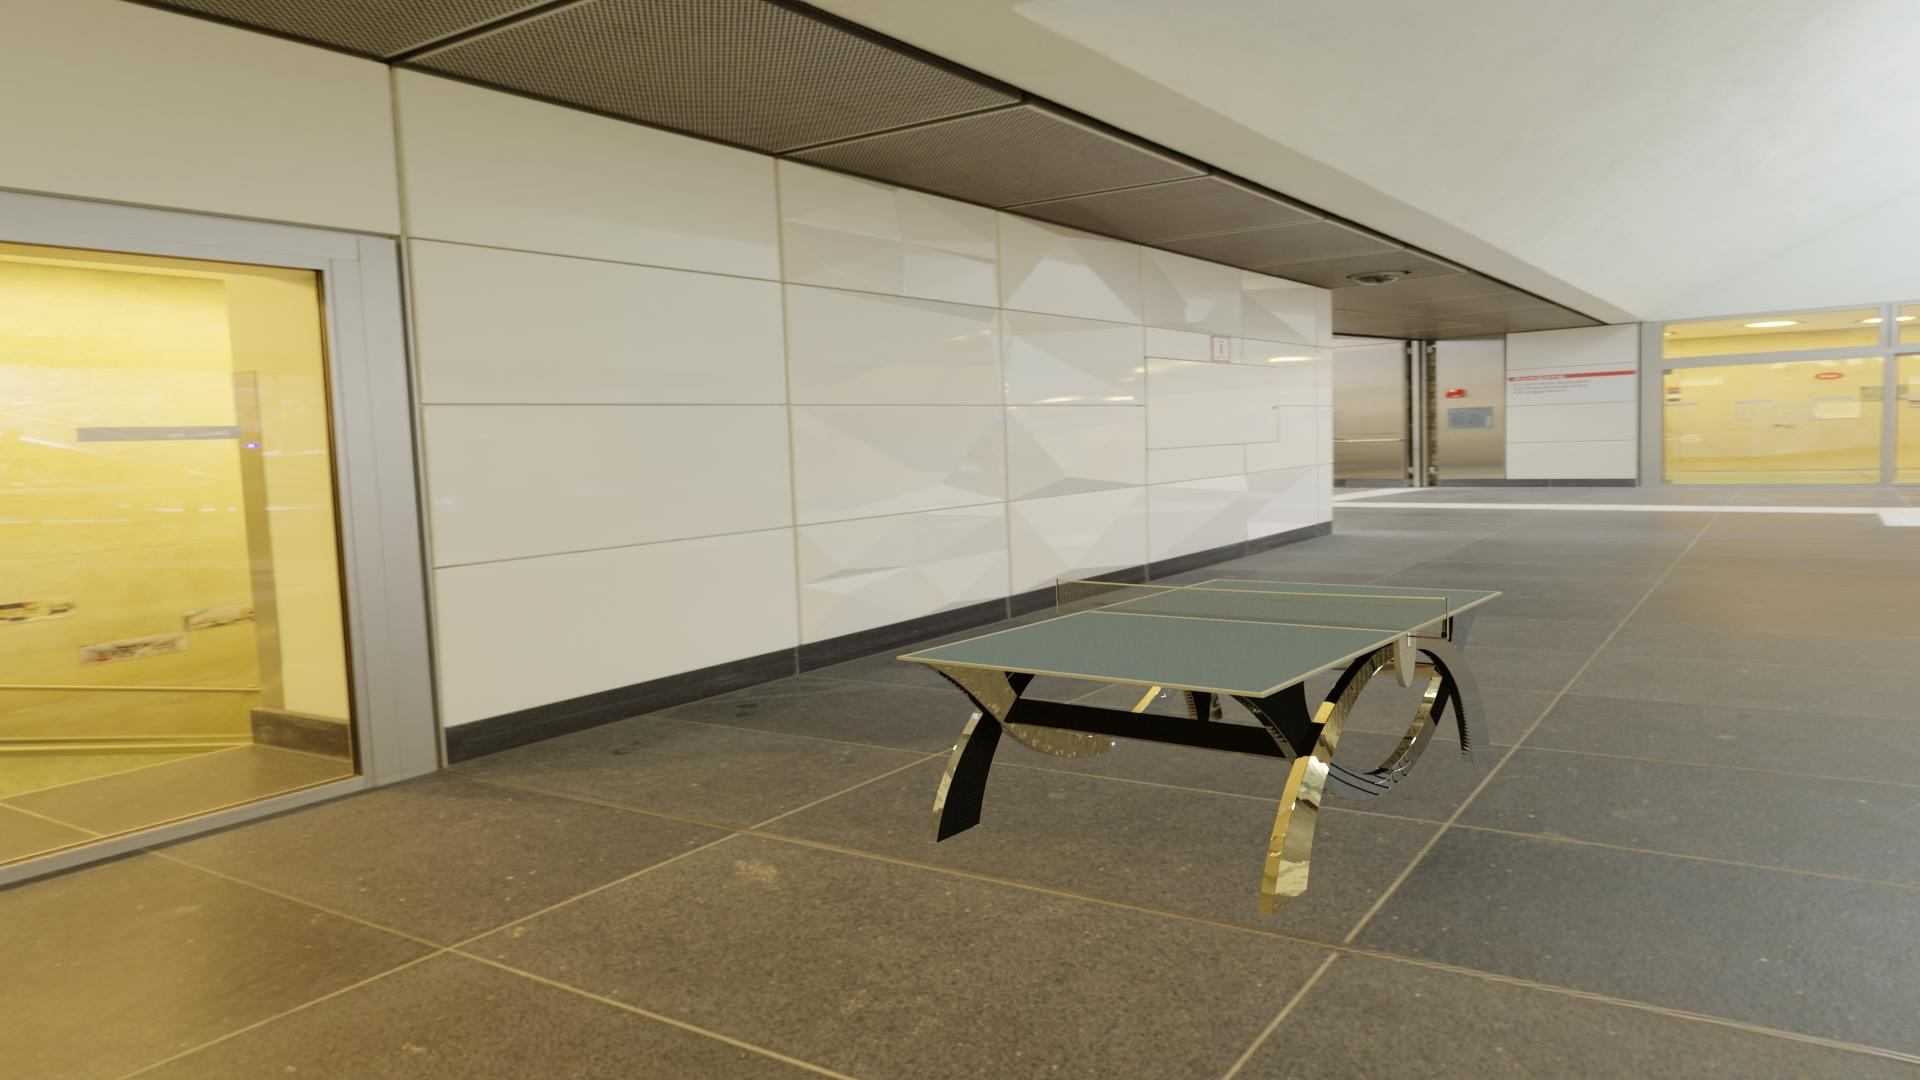table: (903, 580, 1497, 692)
